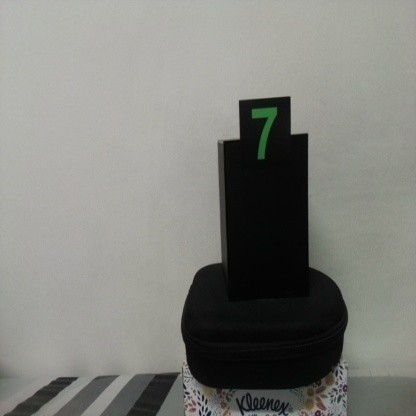id_7: (239, 101, 291, 176)
